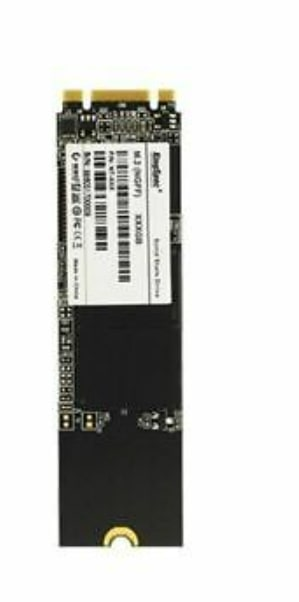ssd2280: (52, 86, 186, 550)
